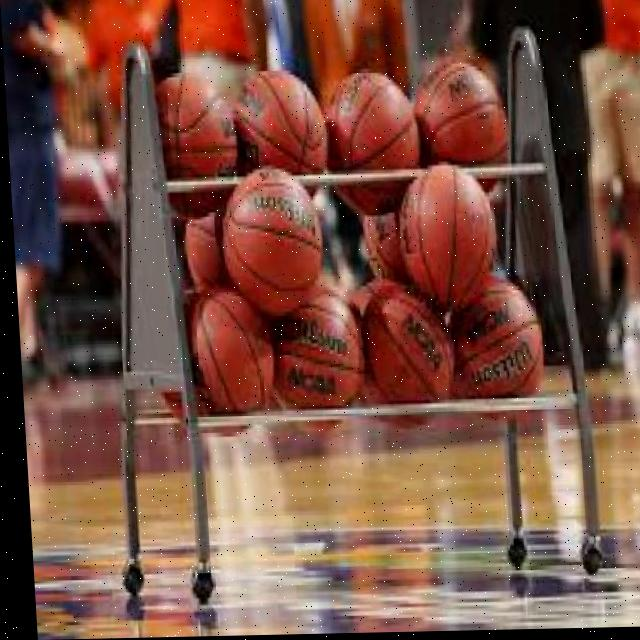Basketball: (159, 287, 276, 436), (344, 277, 455, 428), (217, 164, 327, 314), (318, 69, 425, 218), (446, 275, 546, 419), (227, 68, 331, 203), (398, 164, 498, 302), (149, 72, 240, 219), (413, 62, 512, 197), (269, 292, 364, 427)
